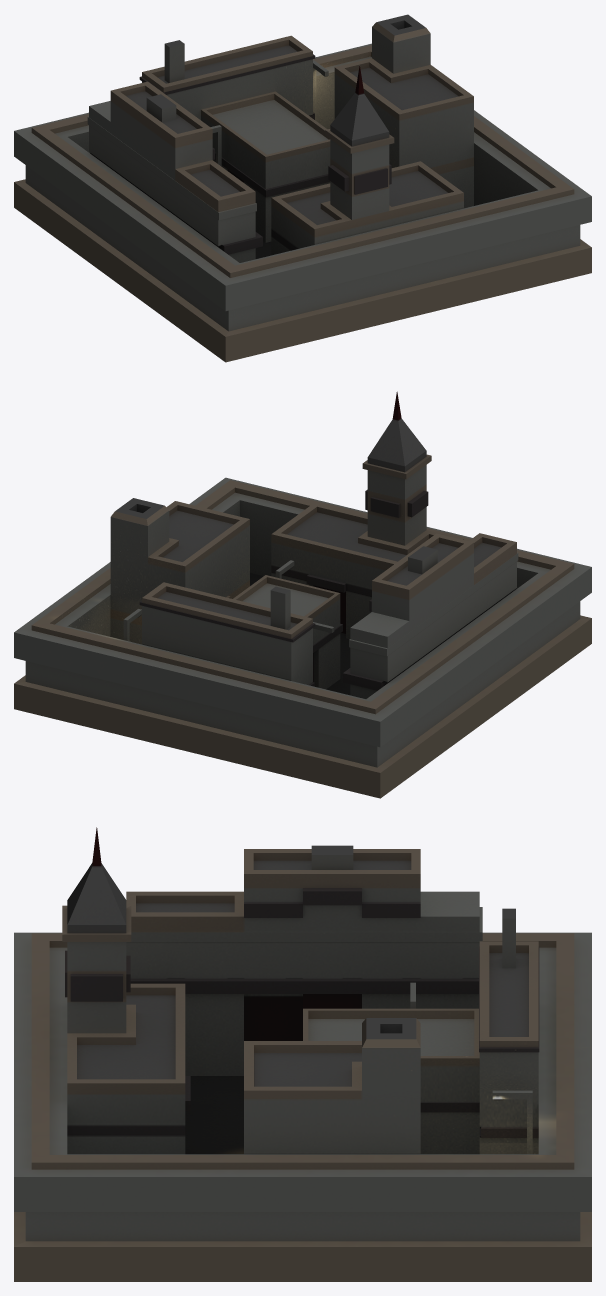
Rendered from bbox.fbx.
3 renders of one model, top to bottom at view 1: azimuth 30°, elevation 25°; view 2: azimuth 150°, elevation 25°; view 3: azimuth 270°, elevation 25°, orthographic. The views are drawn at different scales.
Visible parts, largest first — view 1: Plane; view 2: Plane; view 3: Plane.
Boxes of the visible parts, x1=… form: Plane: x1=14, y1=14, x2=591, y2=362; Plane: x1=14, y1=391, x2=591, y2=798; Plane: x1=14, y1=827, x2=591, y2=1281.
Size of the model in its own units: 16.92 by 10.34 by 16.92.
Materials: 1 (1 with a texture image).
